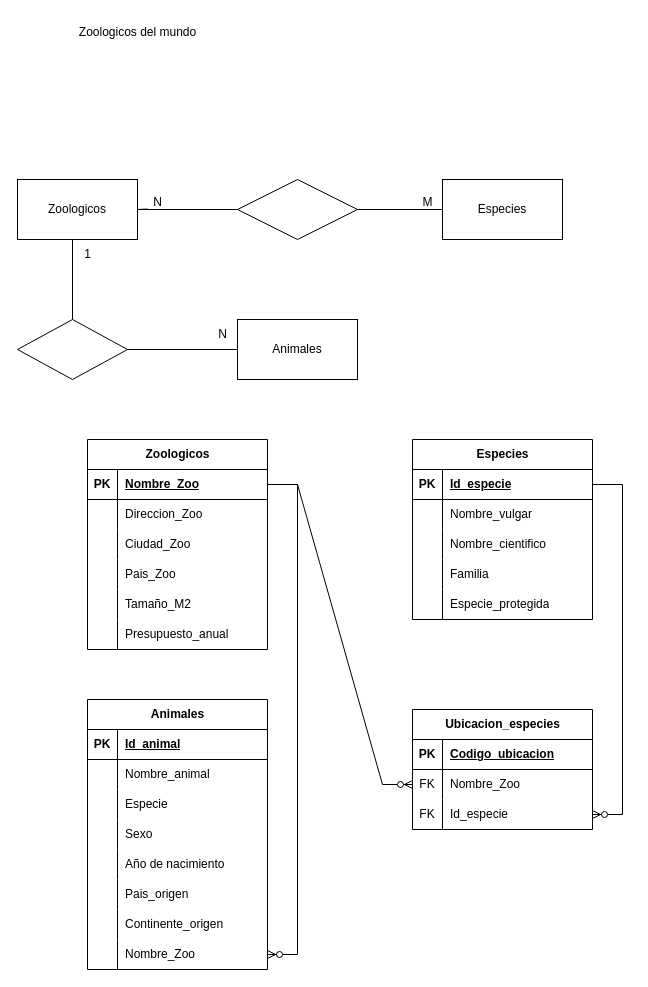
This 648x987 diagram has some shape labels left out. Each missing label, with the centre of its shape:
"posee" belongs at pixel 72 349.
"tiene" belongs at pixel 297 209.
